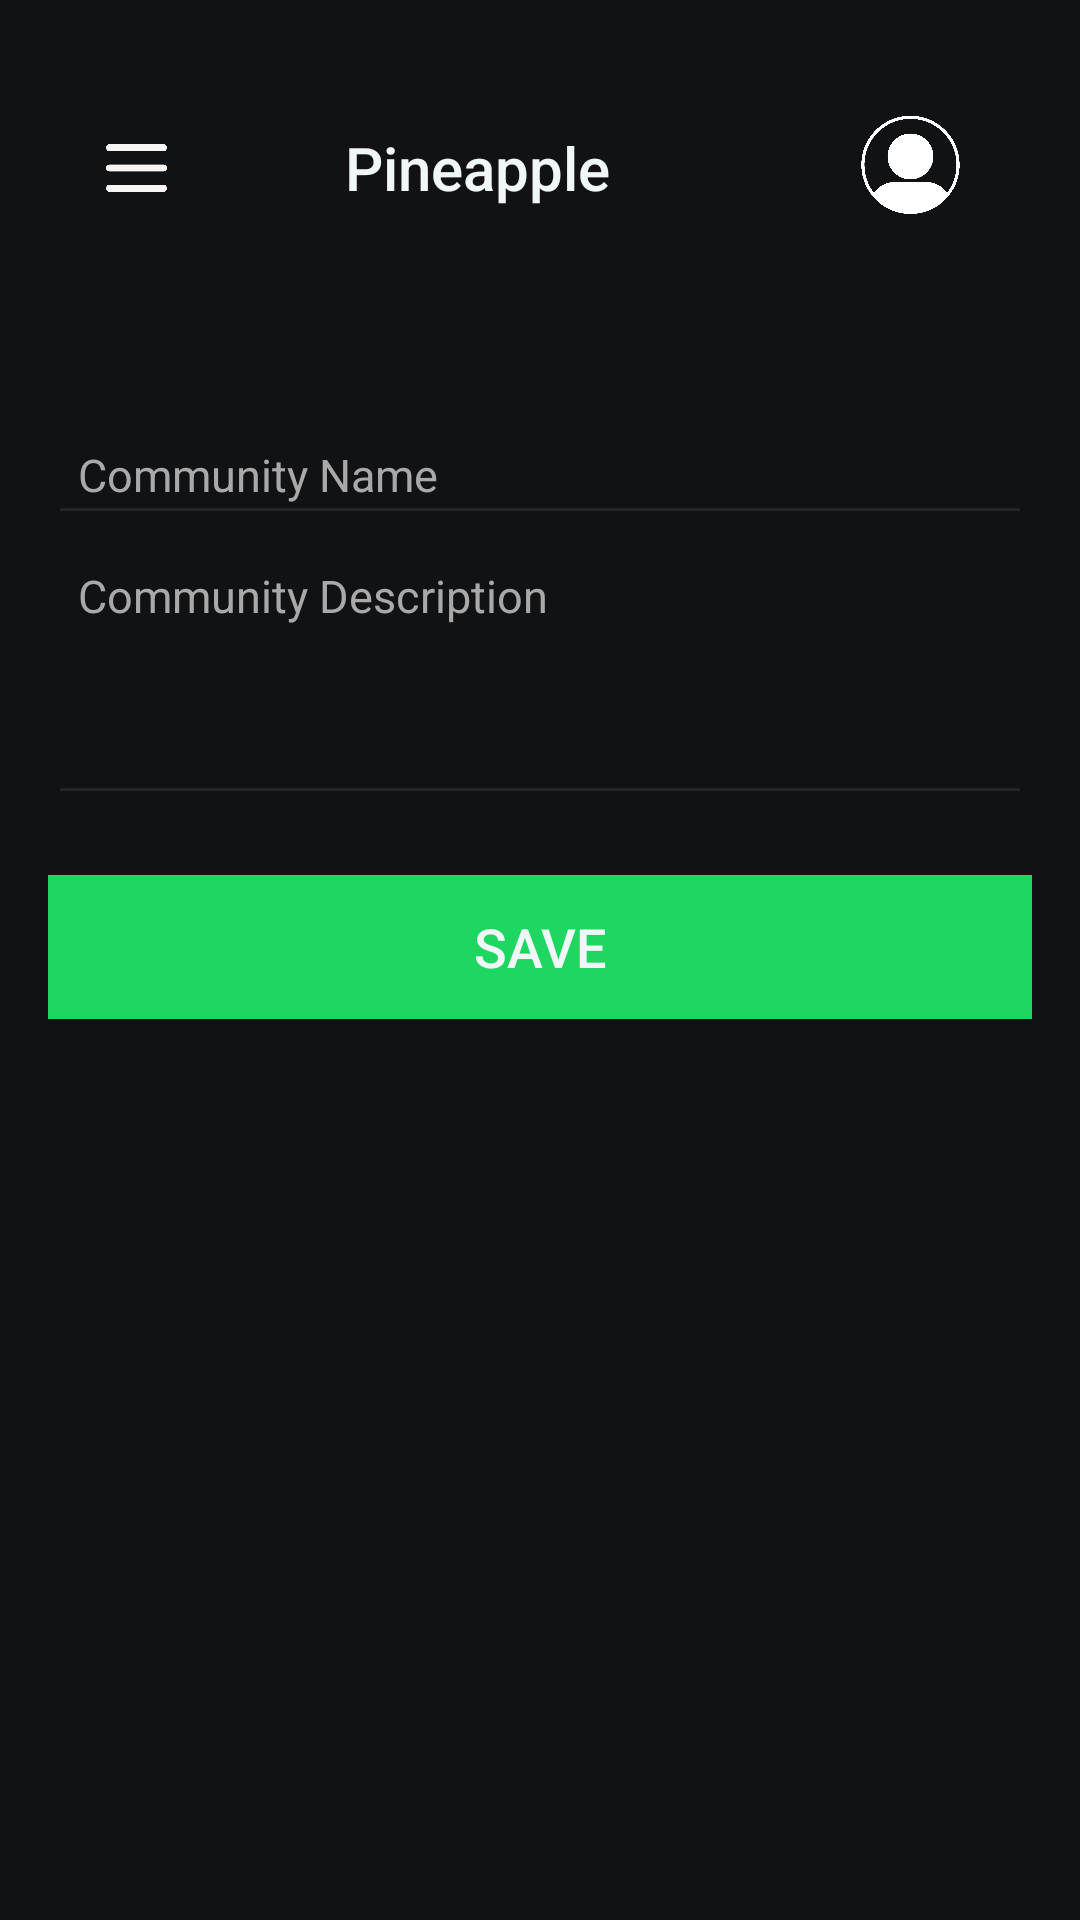

Icons on this 1080x1920 Android screen, each with its box as (x1, y1, x2, y2):
menu: (106, 144, 167, 192)
Profile: (861, 116, 960, 214)
